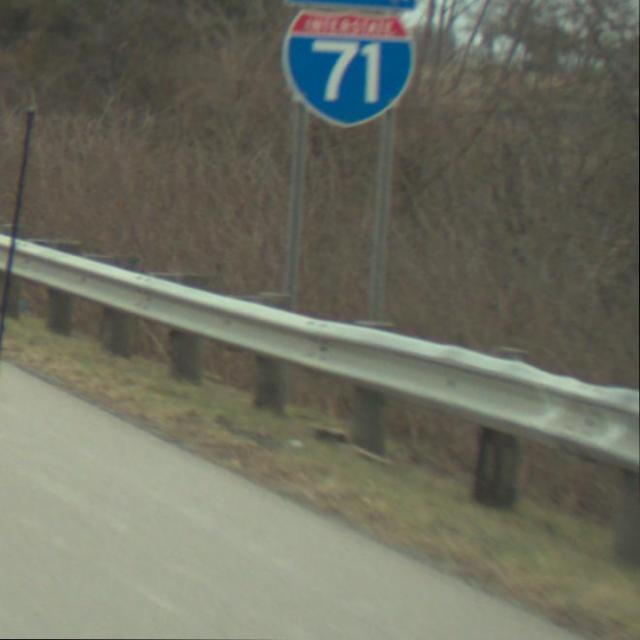Guard rail: (0, 216, 640, 565)
